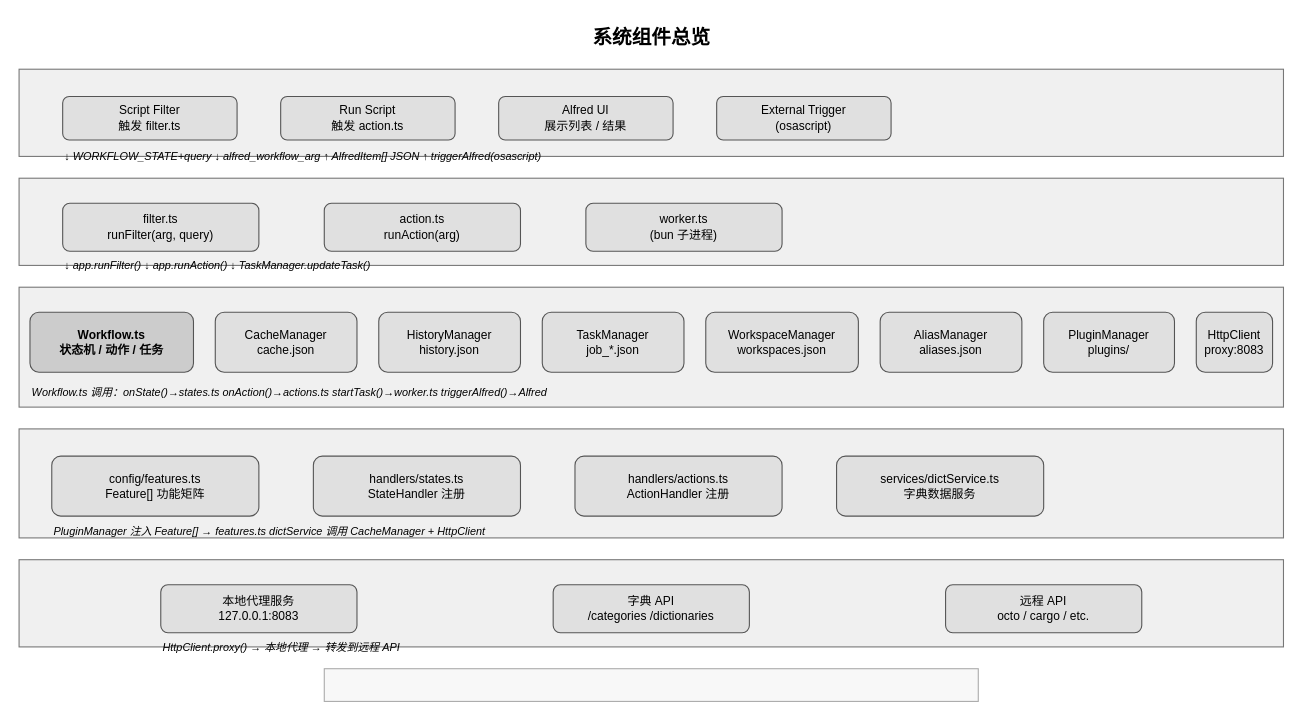
This 1303x720 diagram has some shape labels left out. The box of each missing label's shape, as (x1, y1, x2, y2) in pixels:
① Alfred 宿主应用: (18, 68, 1283, 156)
② 入口层 src/: (18, 177, 1283, 265)
③ 核心层 src/core/: (18, 286, 1283, 407)
④ 配置 & 处理层 src/config/ + src/handlers/ + src/services/: (18, 428, 1283, 538)
⑤ 外部系统: (18, 559, 1283, 647)
调用关系见「Filter-Action 数据流」和「后台任务流程」两页: (323, 668, 978, 701)
